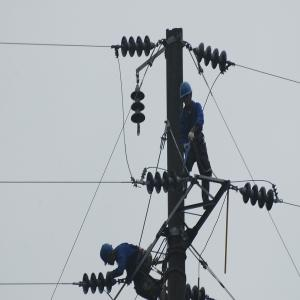blue: (100, 244, 116, 268), (179, 82, 194, 107)
